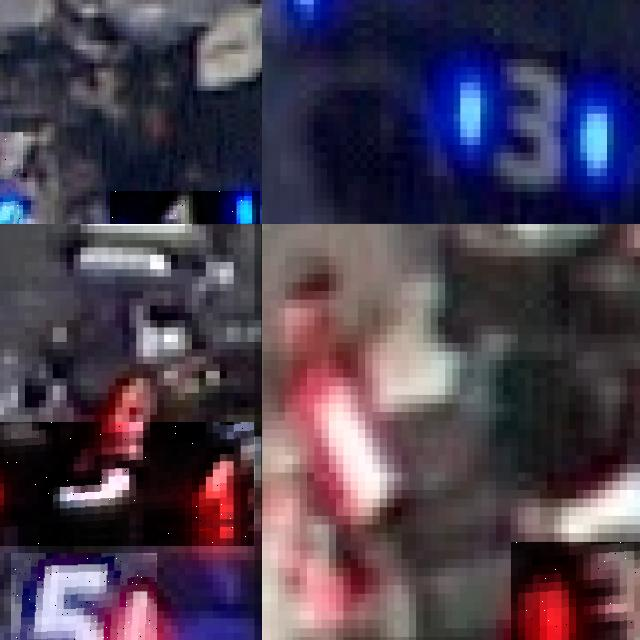B1: (110, 191, 260, 224)
B3: (434, 40, 620, 211)
R3: (510, 542, 640, 640)
R5: (0, 422, 254, 545), (11, 553, 157, 640)
